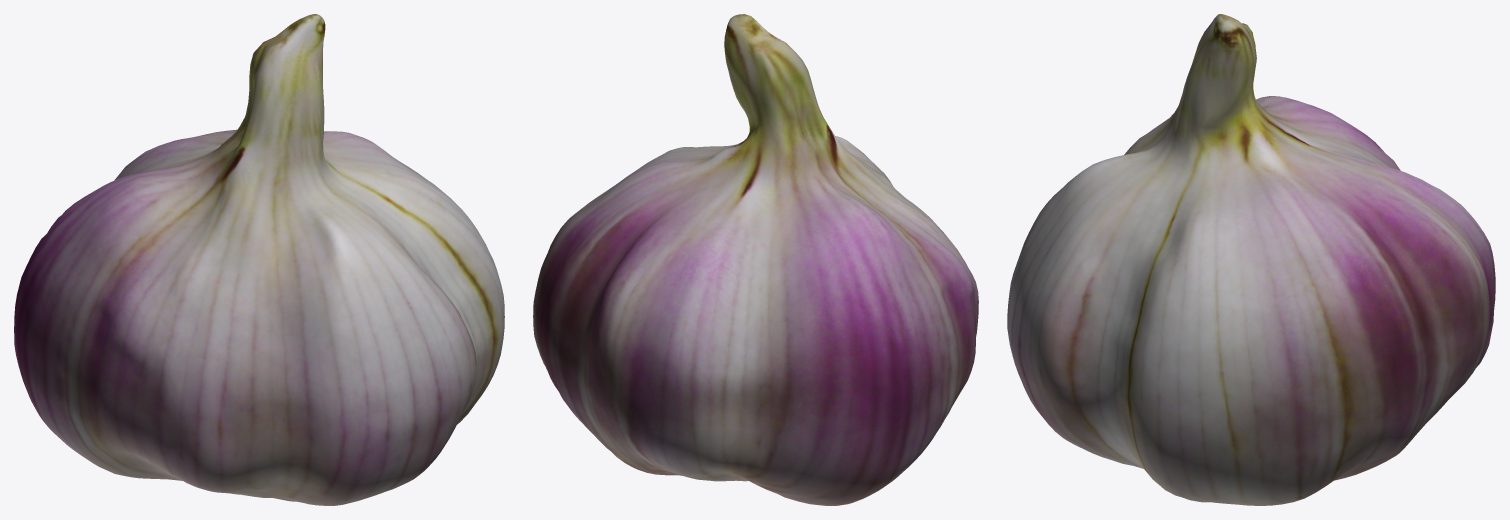
Rendered from garlic.glb.
3 views of the same model, side by side, from view 1: azimuth 30°, elevation 25°; view 2: azimuth 150°, elevation 25°; view 3: azimuth 270°, elevation 25° (orthographic). The views are drawn at different scales.
Visible parts, largest first — view 1: mesh_base_material_0; view 2: mesh_base_material_0; view 3: mesh_base_material_0.
Boxes of the visible parts, left/top/right/bottom form: mesh_base_material_0: left=14, top=14, right=504, bottom=505; mesh_base_material_0: left=533, top=14, right=978, bottom=505; mesh_base_material_0: left=1007, top=14, right=1495, bottom=505.
Size of the model in its own units: 0.9681 by 0.9954 by 0.9895.
Materials: 1 (1 with a texture image).
